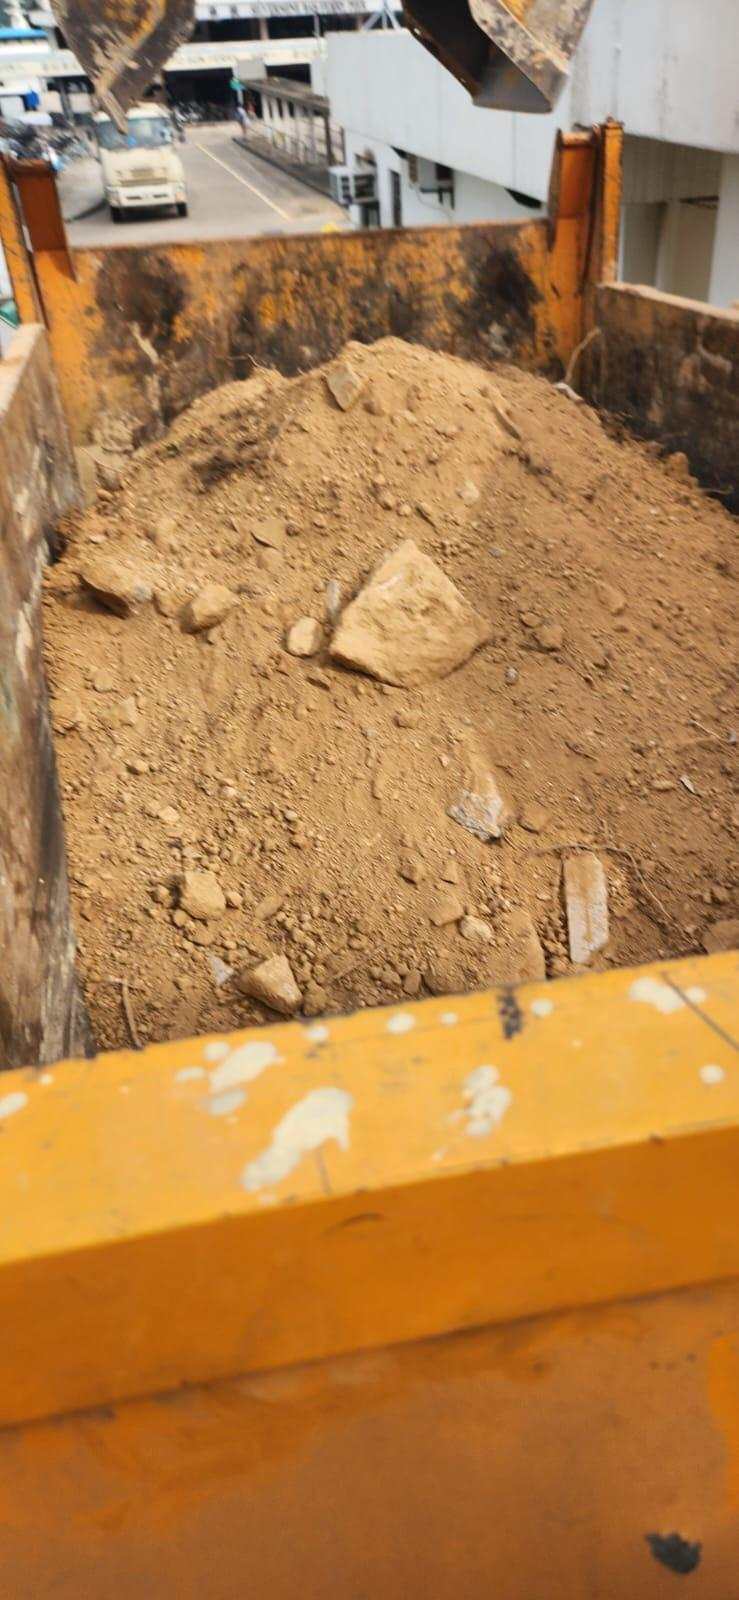dry: (45, 338, 738, 1058)
